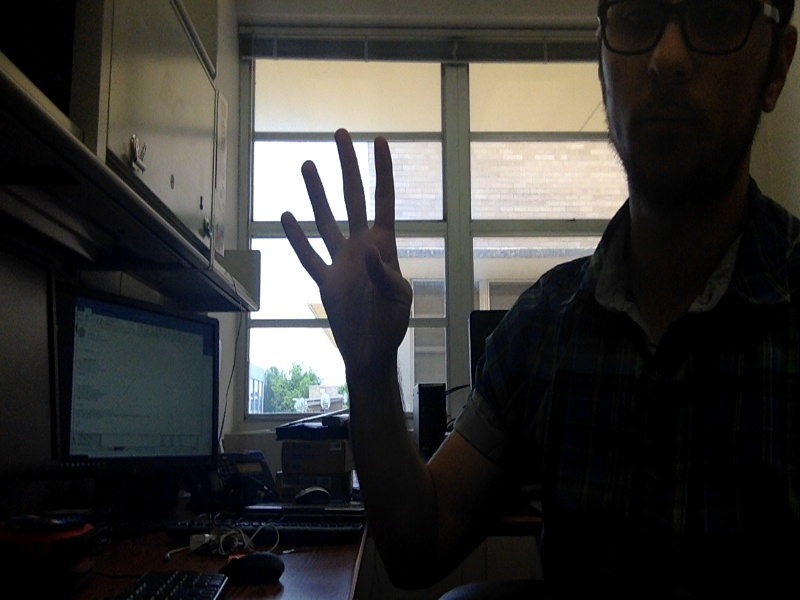4-hand: (279, 129, 415, 371)
